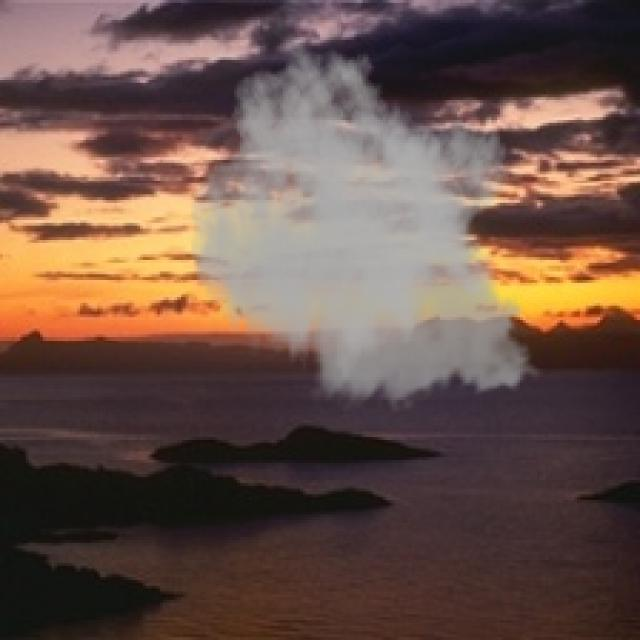Smoke: (188, 37, 546, 414)
